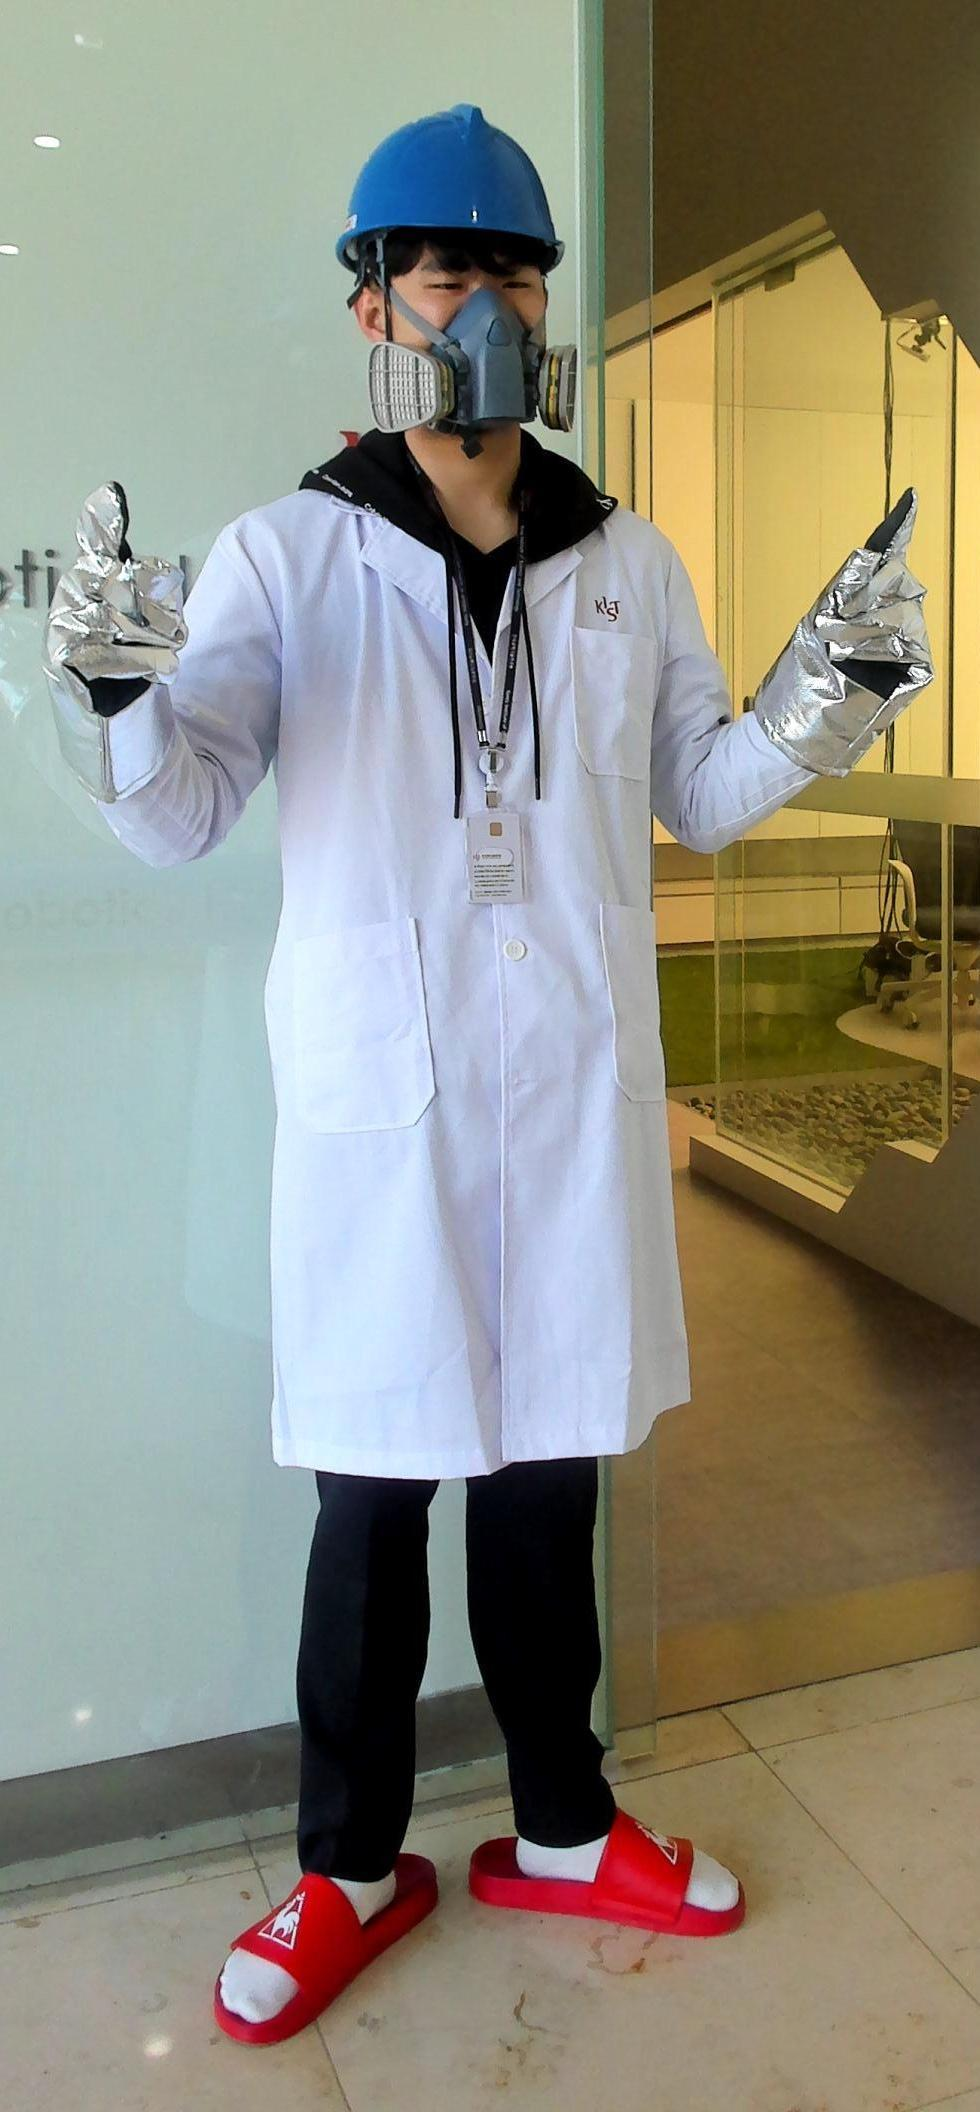lab_coat: (223, 521, 705, 1440)
